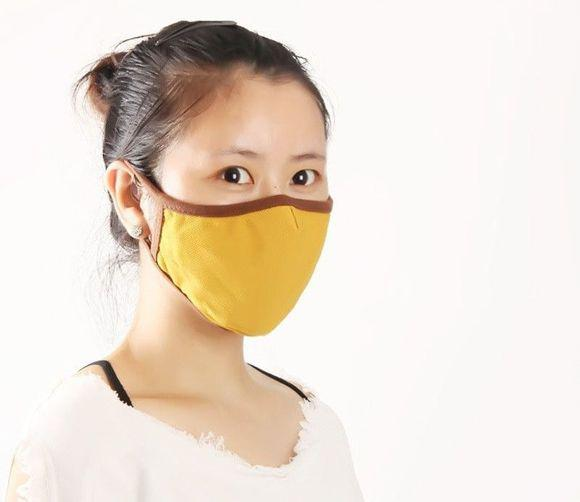OK: (137, 126, 329, 338)
